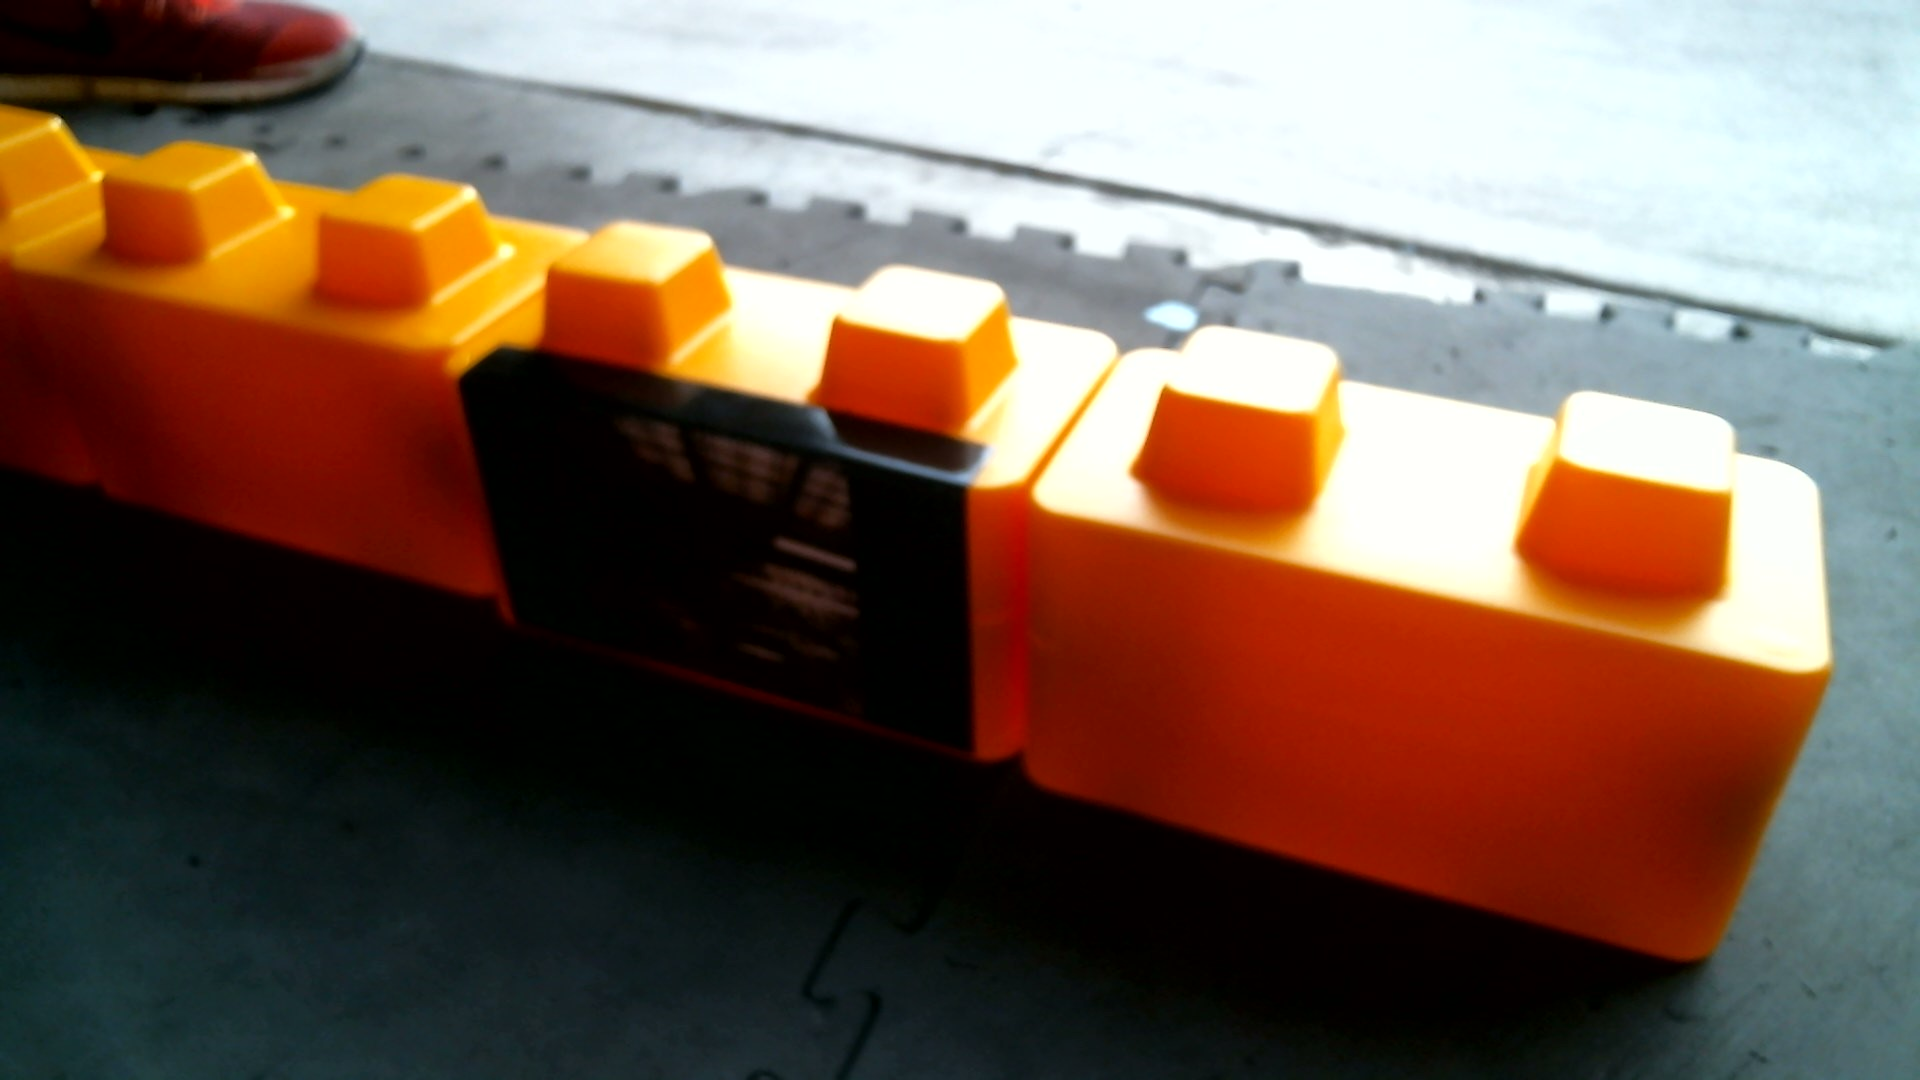center: (47, 98, 1837, 960)
